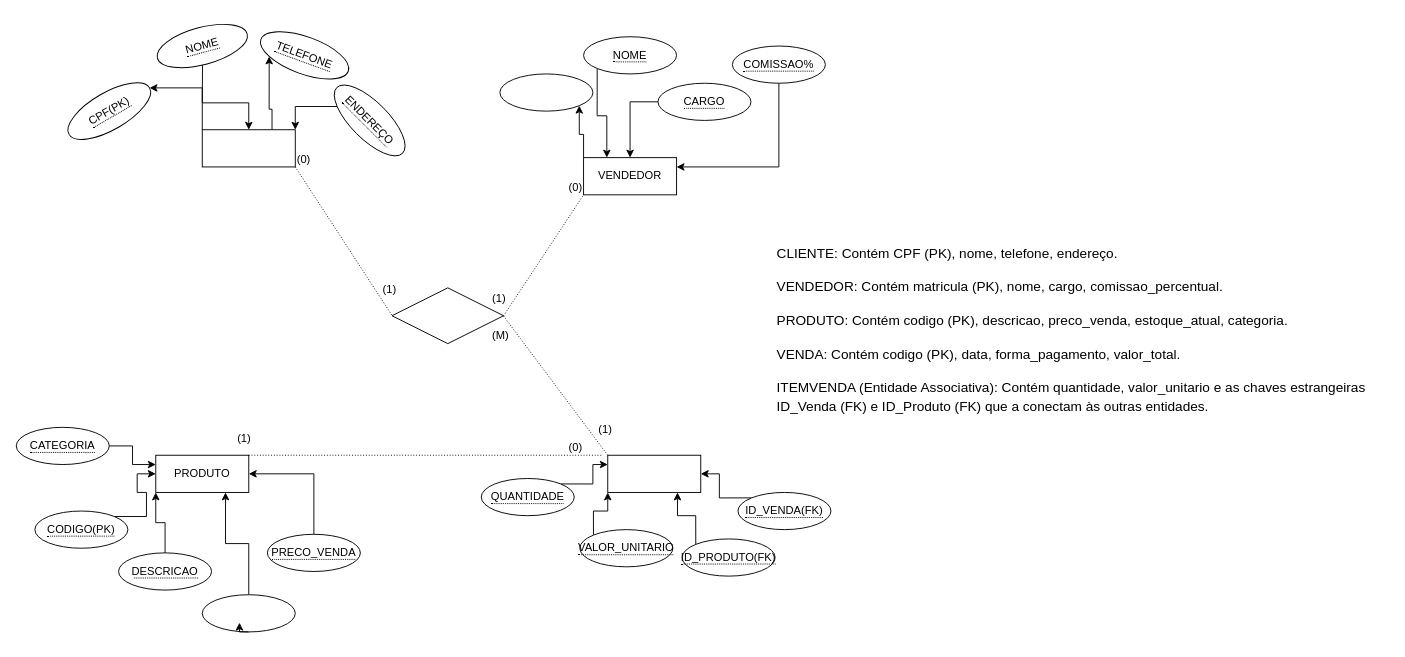
Some shapes in this 1405 by 657 pixel diagram are drawn without their labels. Here are the shapes that lost their labels. From the top down, the centre of each, then its label:
the point at 546,92: MATRICULA(PK)
the point at 248,148: CLIENTE
the point at 447,315: VENDA
the point at 654,473: ITEMVENDA
the point at 248,613: ESTOQUE ATUAL
